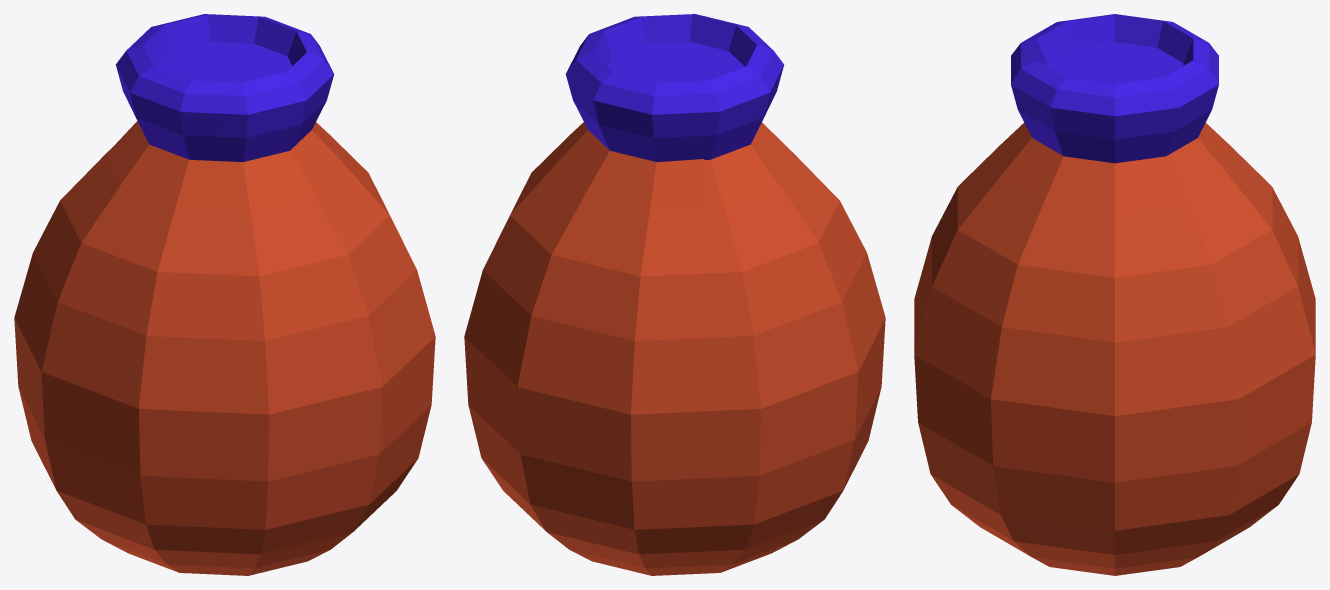
The model's file is P_Vase1_Colored_Breakable.fbx.
The picture shows the model from 3 angles, left to right: view 1: azimuth 30°, elevation 25°; view 2: azimuth 150°, elevation 25°; view 3: azimuth 270°, elevation 25°; orthographic projection.
Visible parts, largest first — view 1: P_Vase1_Colored_Brealable, P_Vase1_Colored_Brealable_cell.003, P_Vase1_Colored_Brealable_cell.016, P_Vase1_Colored_Brealable_cell.004, P_Vase1_Colored_Brealable_cell.013, P_Vase1_Colored_Brealable_cell.015, P_Vase1_Colored_Brealable_cell.017, P_Vase1_Colored_Brealable_cell.014, P_Vase1_Colored_Brealable_cell.005, P_Vase1_Colored_Brealable_cell.006, P_Vase1_Colored_Brealable_cell, P_Vase1_Colored_Brealable_cell.010 (+2 smaller); view 2: P_Vase1_Colored_Brealable, P_Vase1_Colored_Brealable_cell.003, P_Vase1_Colored_Brealable_cell.008, P_Vase1_Colored_Brealable_cell.013, P_Vase1_Colored_Brealable_cell.002, P_Vase1_Colored_Brealable_cell, P_Vase1_Colored_Brealable_cell.017; view 3: P_Vase1_Colored_Brealable, P_Vase1_Colored_Brealable_cell.006, P_Vase1_Colored_Brealable_cell.016, P_Vase1_Colored_Brealable_cell.004, P_Vase1_Colored_Brealable_cell.019, P_Vase1_Colored_Brealable_cell.005, P_Vase1_Colored_Brealable_cell.009, P_Vase1_Colored_Brealable_cell.020, P_Vase1_Colored_Brealable_cell.014, P_Vase1_Colored_Brealable_cell.010, P_Vase1_Colored_Brealable_cell.021, P_Vase1_Colored_Brealable_cell.015.
Part boxes in pixels (box(x1,y1,x2,y2)): P_Vase1_Colored_Brealable: box(14, 14, 423, 574); P_Vase1_Colored_Brealable_cell.003: box(43, 272, 301, 477); P_Vase1_Colored_Brealable_cell.016: box(215, 181, 412, 428); P_Vase1_Colored_Brealable_cell.004: box(218, 359, 423, 575); P_Vase1_Colored_Brealable_cell.013: box(50, 437, 219, 574); P_Vase1_Colored_Brealable_cell.015: box(206, 103, 326, 216); P_Vase1_Colored_Brealable_cell.017: box(124, 93, 234, 160); P_Vase1_Colored_Brealable_cell.014: box(236, 63, 333, 132); P_Vase1_Colored_Brealable_cell.005: box(287, 80, 414, 304); P_Vase1_Colored_Brealable_cell.006: box(405, 287, 435, 435); P_Vase1_Colored_Brealable_cell: box(41, 366, 90, 463); P_Vase1_Colored_Brealable_cell.010: box(143, 20, 202, 66); P_Vase1_Colored_Brealable: box(464, 14, 882, 573); P_Vase1_Colored_Brealable_cell.003: box(842, 253, 885, 390); P_Vase1_Colored_Brealable_cell.008: box(547, 532, 722, 575); P_Vase1_Colored_Brealable_cell.013: box(705, 377, 882, 573); P_Vase1_Colored_Brealable_cell.002: box(650, 159, 706, 210); P_Vase1_Colored_Brealable_cell: box(702, 366, 869, 560); P_Vase1_Colored_Brealable_cell.017: box(710, 65, 783, 159); P_Vase1_Colored_Brealable: box(914, 14, 1315, 569); P_Vase1_Colored_Brealable_cell.006: box(950, 337, 1235, 544); P_Vase1_Colored_Brealable_cell.016: box(914, 128, 1018, 367); P_Vase1_Colored_Brealable_cell.004: box(914, 360, 1055, 567); P_Vase1_Colored_Brealable_cell.019: box(1003, 503, 1216, 569); P_Vase1_Colored_Brealable_cell.005: box(977, 111, 1082, 341); P_Vase1_Colored_Brealable_cell.009: box(1063, 116, 1174, 163); P_Vase1_Colored_Brealable_cell.020: box(1035, 532, 1233, 575); P_Vase1_Colored_Brealable_cell.014: box(1011, 43, 1052, 116); P_Vase1_Colored_Brealable_cell.010: box(1157, 21, 1193, 65); P_Vase1_Colored_Brealable_cell.021: box(980, 320, 1073, 346); P_Vase1_Colored_Brealable_cell.015: box(985, 123, 1031, 194).
Size of the model in its own units: 76.06 by 95.32 by 72.34.
